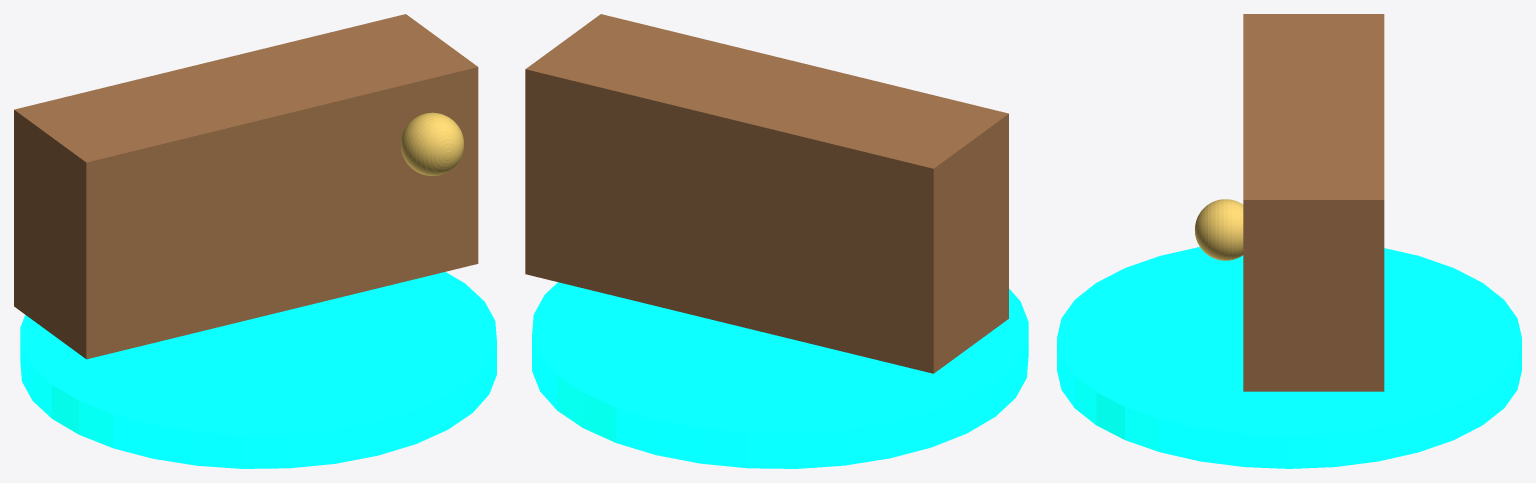
The model's file is fashion_wallet.glb.
3 renders of one model, left to right at view 1: azimuth 30°, elevation 25°; view 2: azimuth 150°, elevation 25°; view 3: azimuth 270°, elevation 25°, orthographic. The views are drawn at different scales.
Parts seen in each view (by area): view 1: 06_18_Popular_Fashion_Wallet_part_01, 06_18_Popular_Fashion_Wallet_ROOT_base, 06_18_Popular_Fashion_Wallet_part_02; view 2: 06_18_Popular_Fashion_Wallet_part_01, 06_18_Popular_Fashion_Wallet_ROOT_base; view 3: 06_18_Popular_Fashion_Wallet_ROOT_base, 06_18_Popular_Fashion_Wallet_part_01, 06_18_Popular_Fashion_Wallet_part_02.
Boxes of the visible parts, x1=… form: 06_18_Popular_Fashion_Wallet_part_01: x1=14, y1=14, x2=478, y2=359; 06_18_Popular_Fashion_Wallet_ROOT_base: x1=20, y1=272, x2=496, y2=468; 06_18_Popular_Fashion_Wallet_part_02: x1=401, y1=112, x2=463, y2=175; 06_18_Popular_Fashion_Wallet_part_01: x1=525, y1=14, x2=1008, y2=373; 06_18_Popular_Fashion_Wallet_ROOT_base: x1=532, y1=282, x2=1028, y2=468; 06_18_Popular_Fashion_Wallet_ROOT_base: x1=1057, y1=247, x2=1521, y2=468; 06_18_Popular_Fashion_Wallet_part_01: x1=1243, y1=14, x2=1384, y2=391; 06_18_Popular_Fashion_Wallet_part_02: x1=1195, y1=199, x2=1243, y2=260.
Size of the model in its own units: 0.76 by 0.4756 by 0.76.
